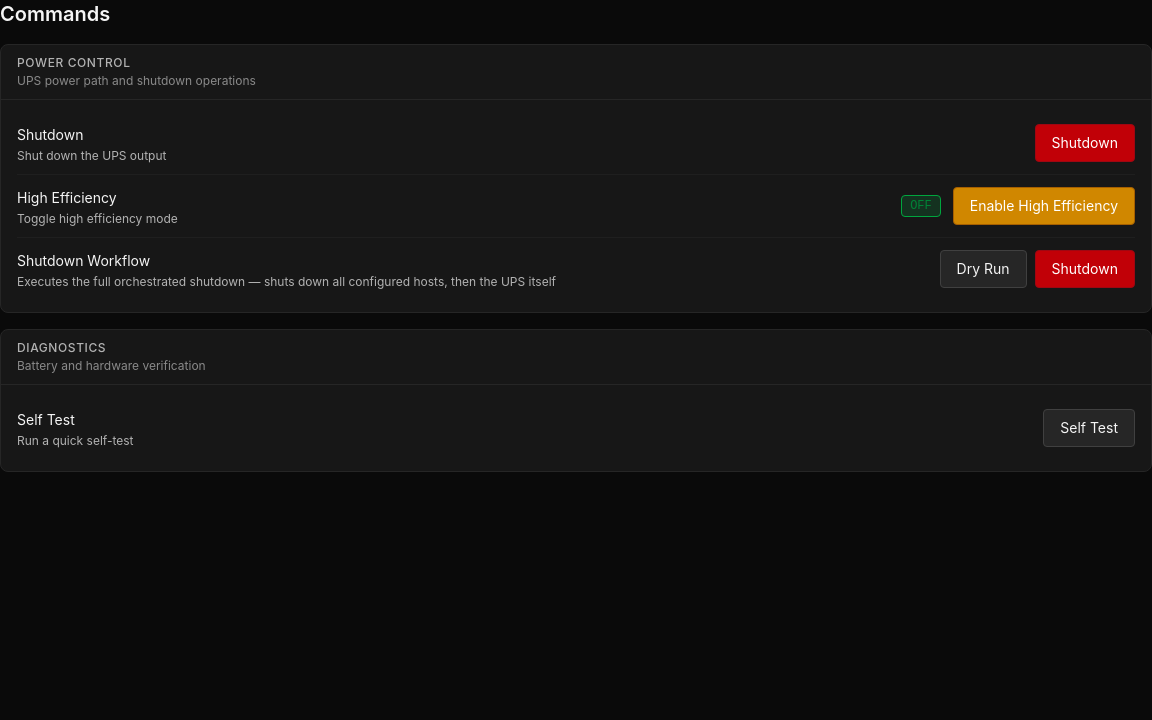
Scenario: Commands › shows confirm modal when command button is clicked
Expected: the text "Run a quick self-test" is shown, 17,433 -> 134,449
What coordinates should you click on to do the following:
click the button "Self Test"
I would click on:
 (1089, 428)
Its box is 1043,409 -> 1135,447.
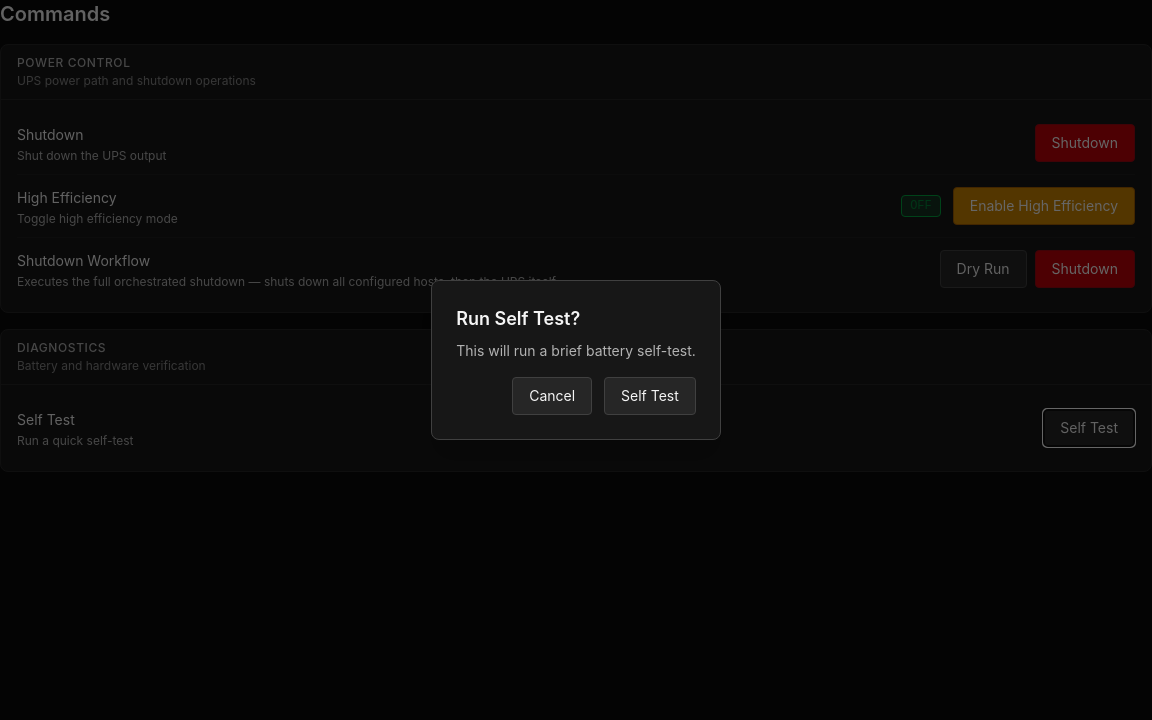
Expected: the heading "Run Self Test?" is shown, 456,308 -> 580,329
Expected: the text "This will run a brief battery self-test." is shown, 456,341 -> 696,361
